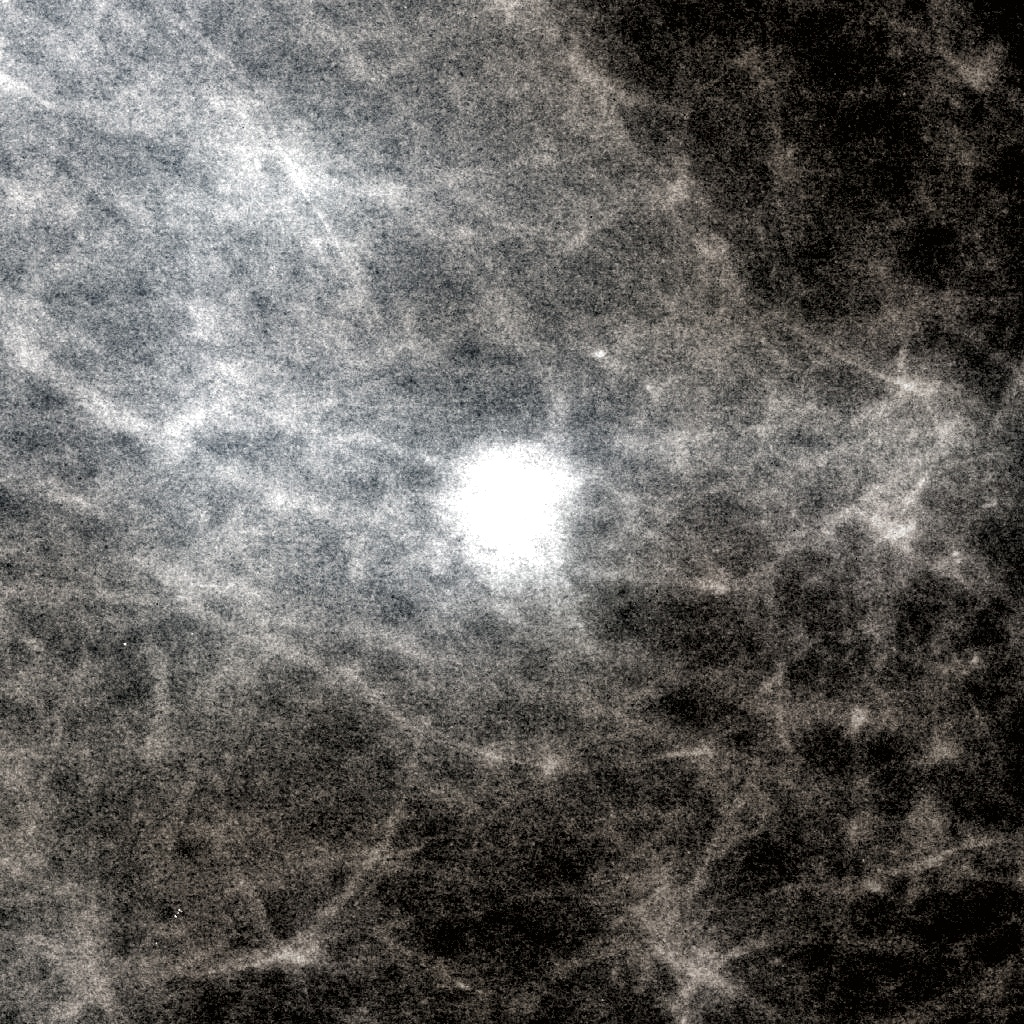tumor: (439, 438, 585, 586)
